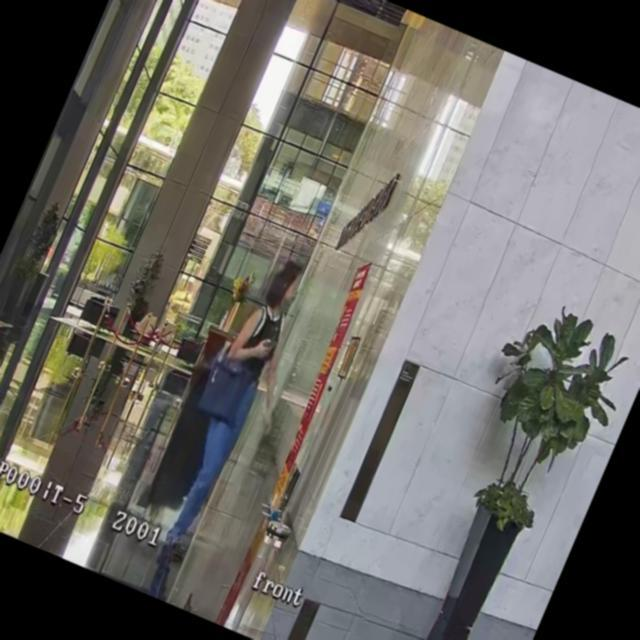person: (144, 248, 334, 572)
